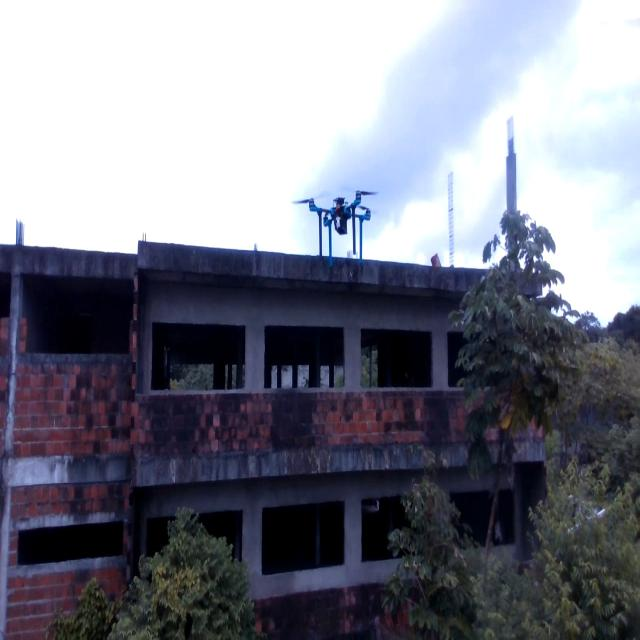-uav-: (290, 173, 383, 274)
